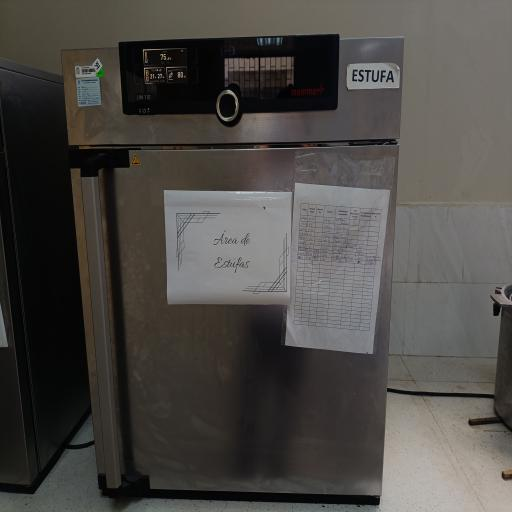Estufa_Memmert: (57, 23, 409, 512)
